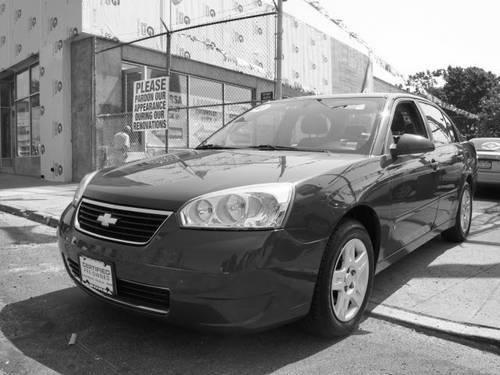car: (59, 94, 477, 332)
